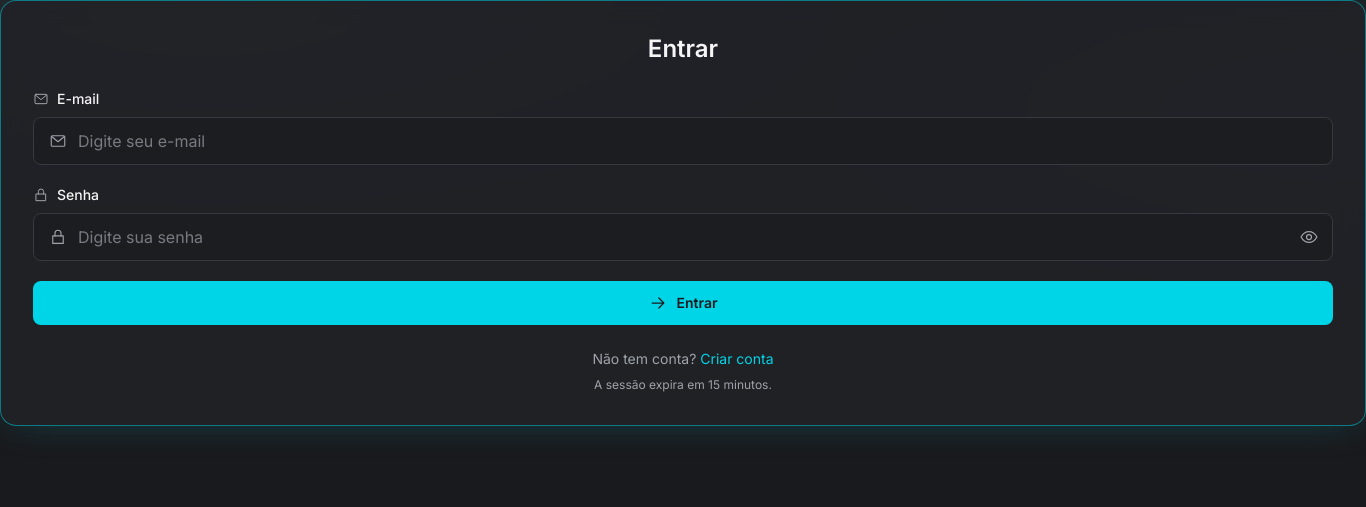
Scenario: FormLogin › campos vazios mostram Obrigatório e não chamam o servidor
Click the button "Entrar" at (683, 303), box [33,281,1333,325]
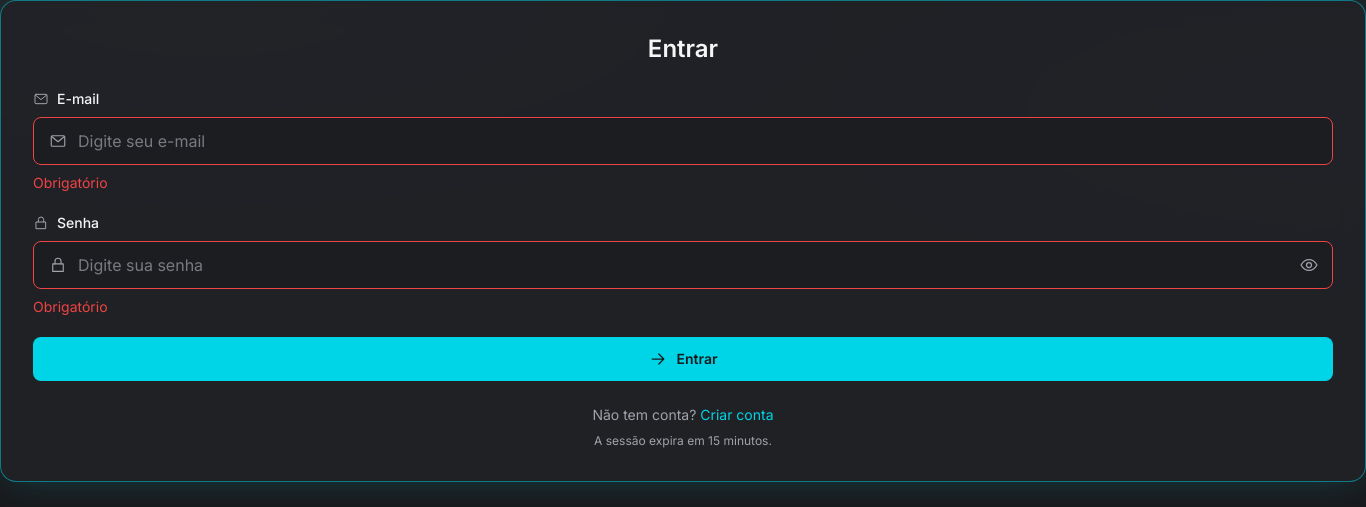
expect the text "Obrigatório" is shown 2 times: met, box [33,174,108,191]; [33,298,108,315]
